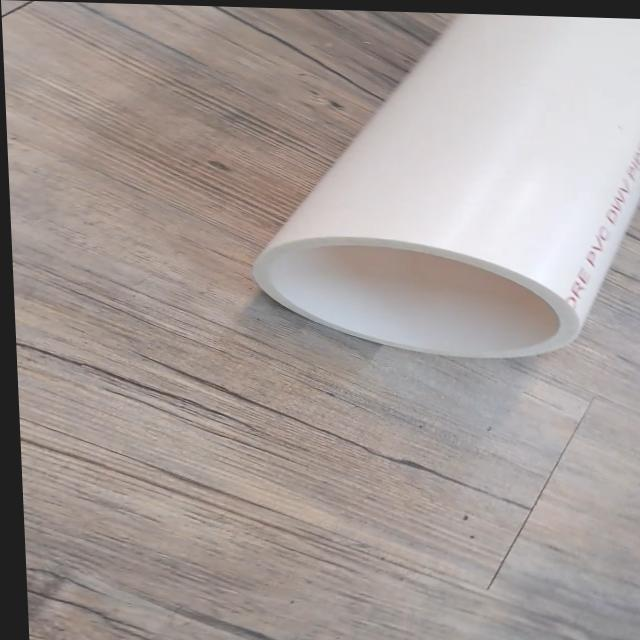CORAL: (230, 7, 640, 371)
